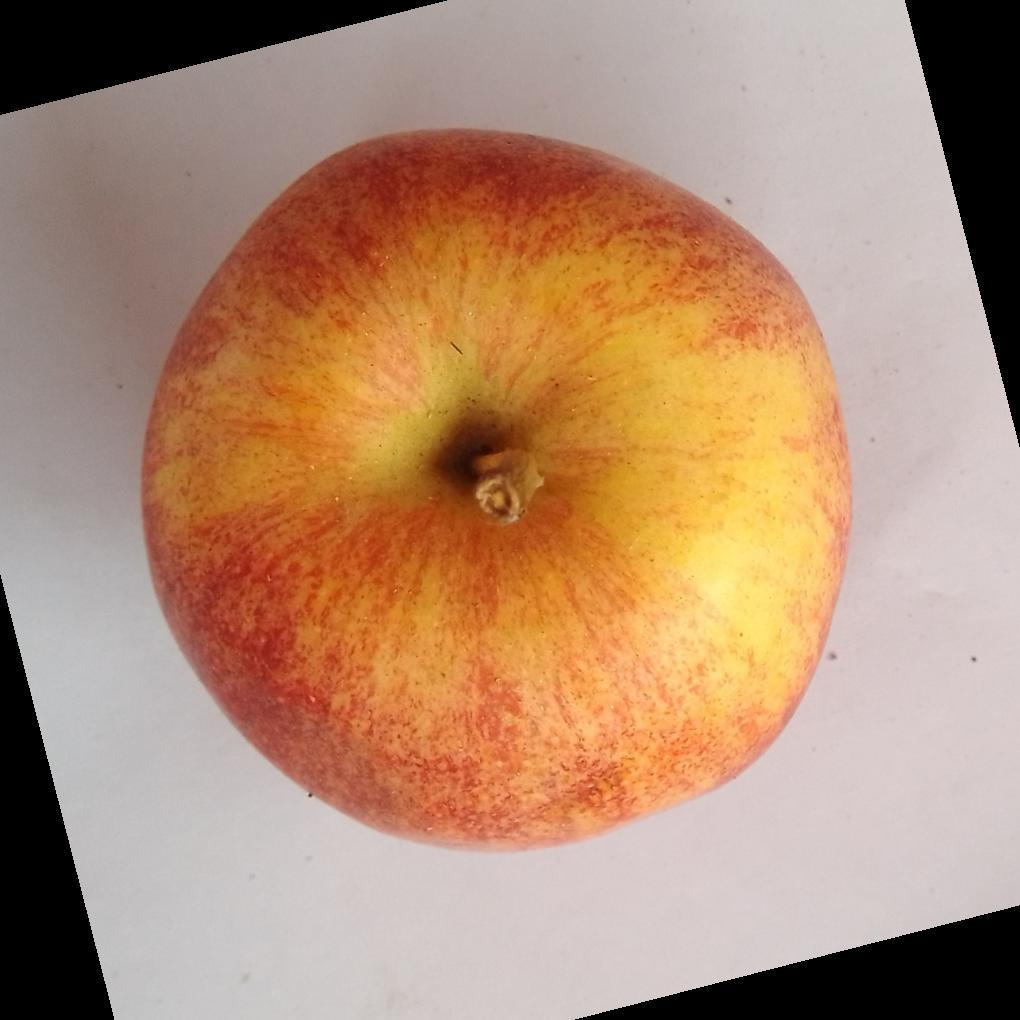FreshGuava: (139, 129, 854, 856)
